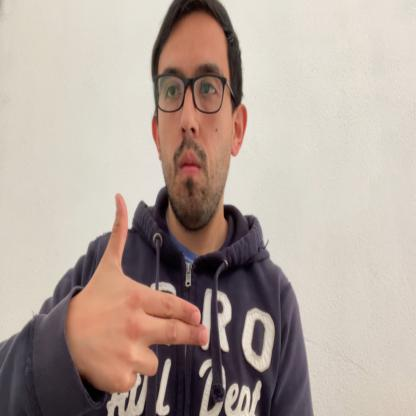H: (80, 191, 209, 395)
